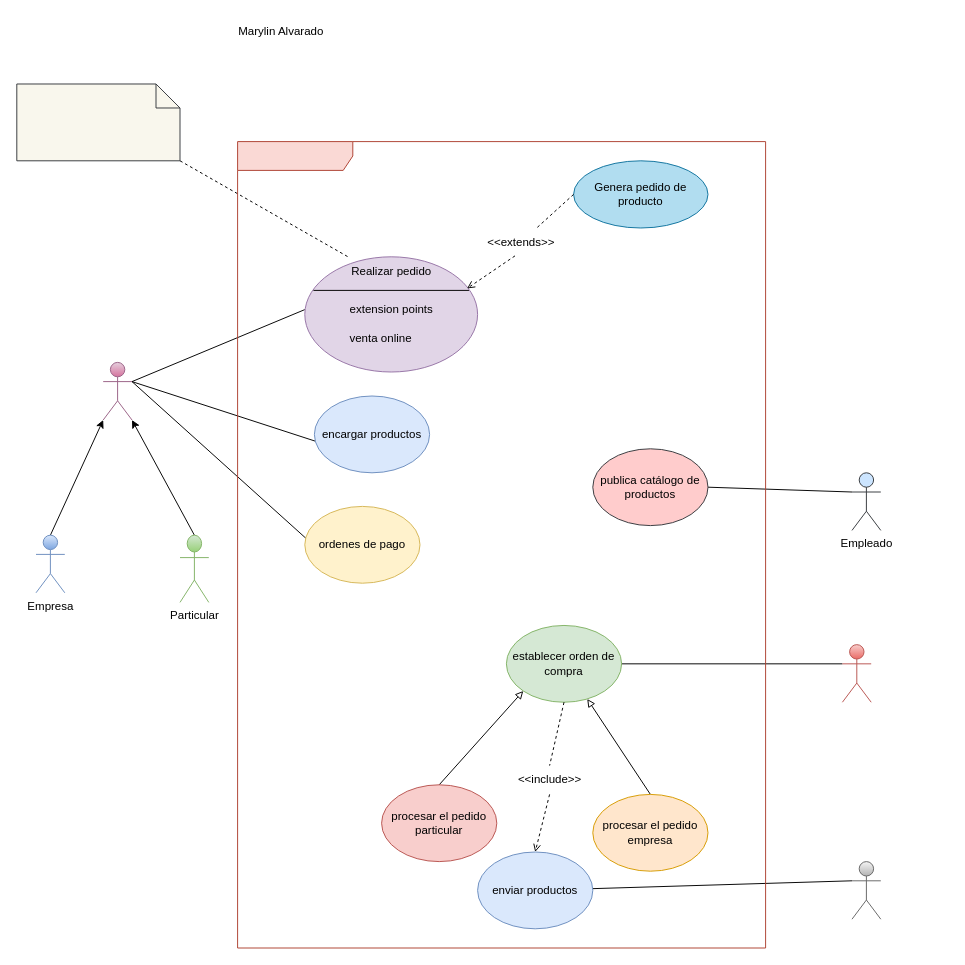
The diagram is 965 pixels wide and 965 high, and some of its shapes have lost their labels. The box of each missing label's shape, as (x1, y1, x2, y2) in pixels:
Cliente: (102, 361, 132, 420)
Empresa de mensajeria externa: (851, 861, 881, 919)
Empresa de suministradora: (841, 644, 871, 702)
lista de producto consultar estado de pedido Anular pedido: (16, 83, 180, 161)
sistema de compras por internet: (237, 141, 766, 948)
